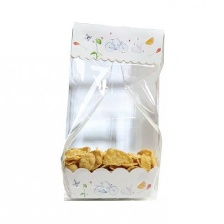snack: (53, 15, 172, 208)
